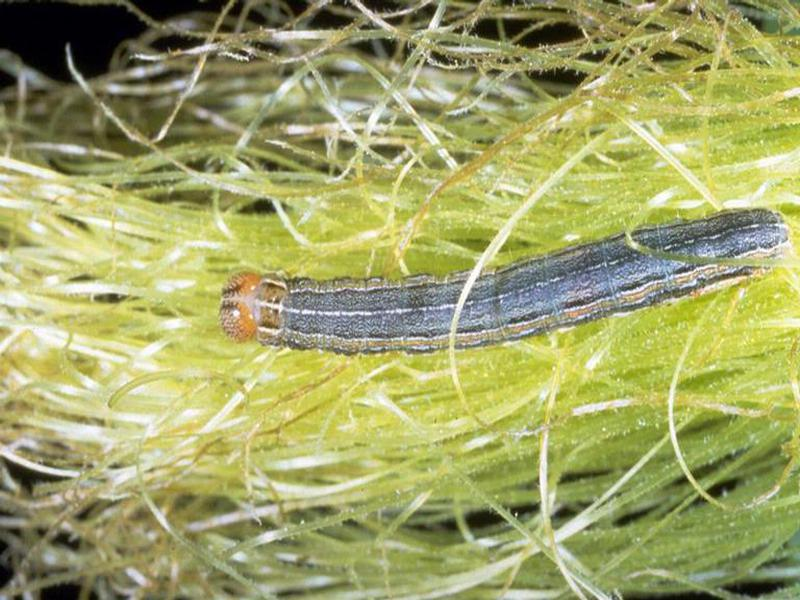Armyworms: (181, 198, 795, 359)
